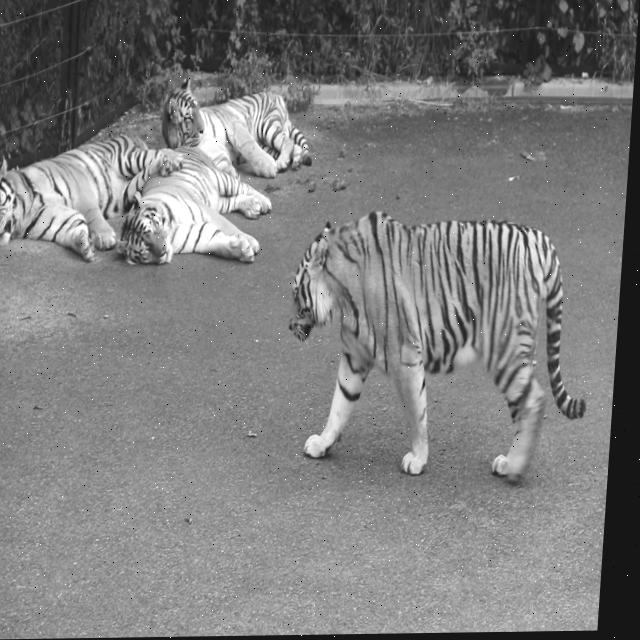Tiger: (277, 205, 599, 487), (0, 131, 184, 265), (114, 143, 276, 266), (156, 71, 318, 181)
